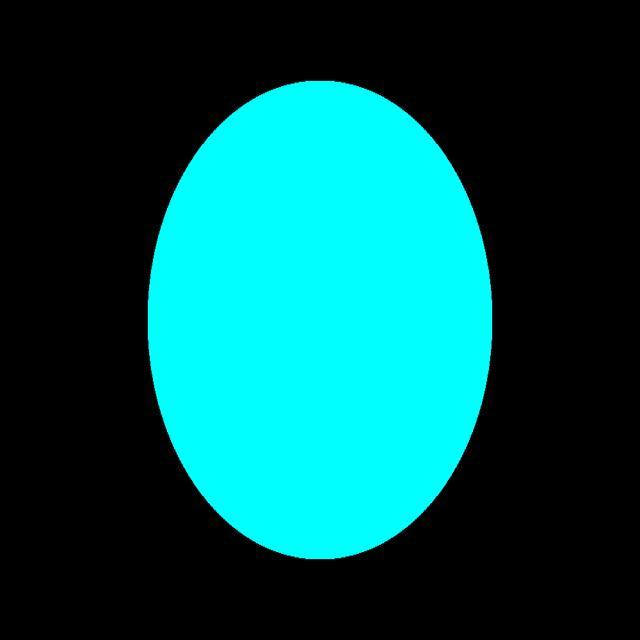Circle: (149, 82, 491, 557)
